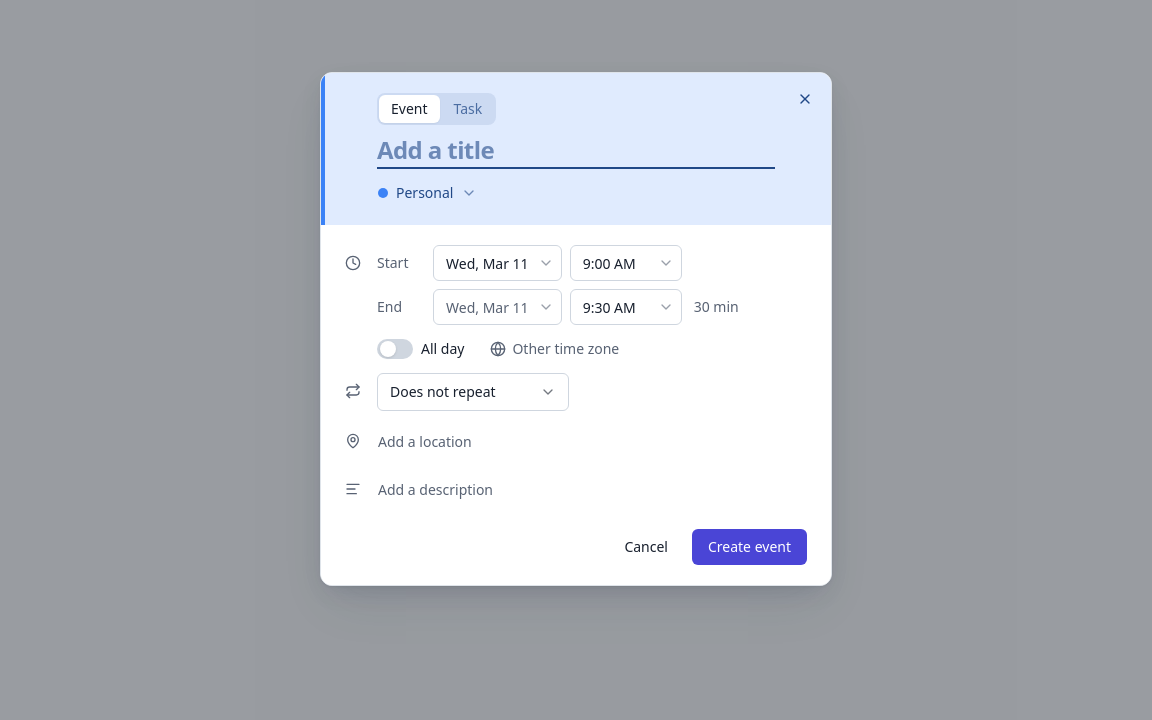
EditorDialog › makes the task the event it was again
Click the radio button "Task" at (468, 109), box [442,95,494,123]
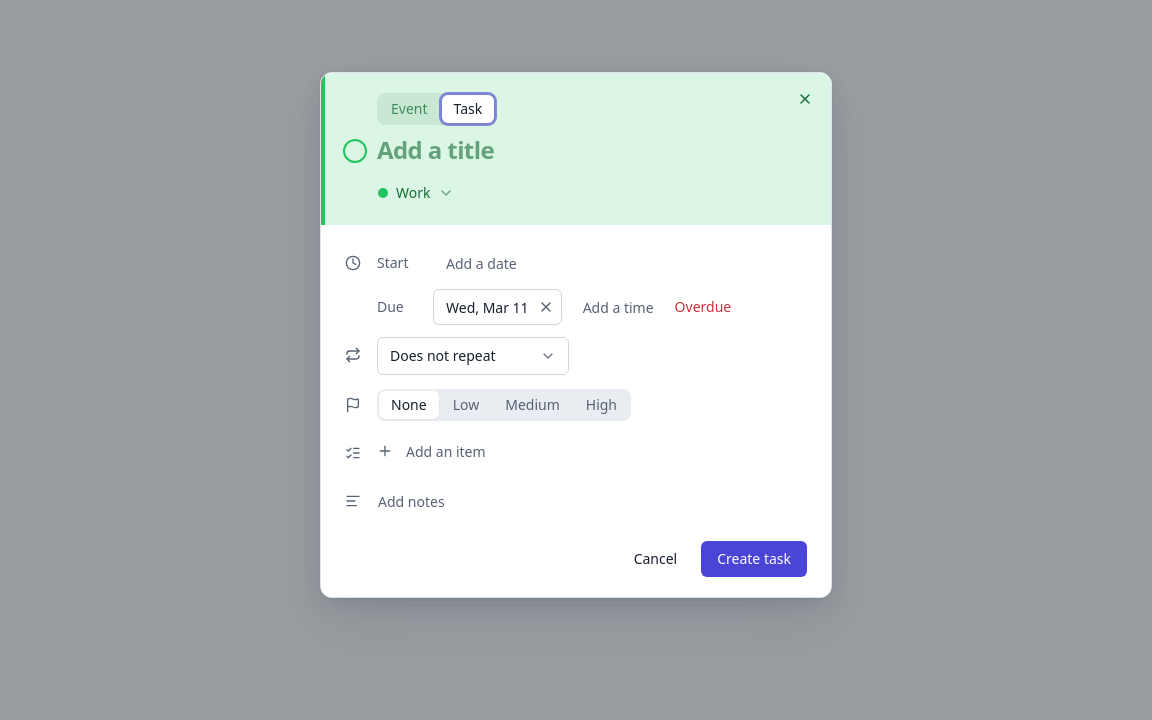
Click the radio button "Event" at (409, 109), box [379,95,440,123]
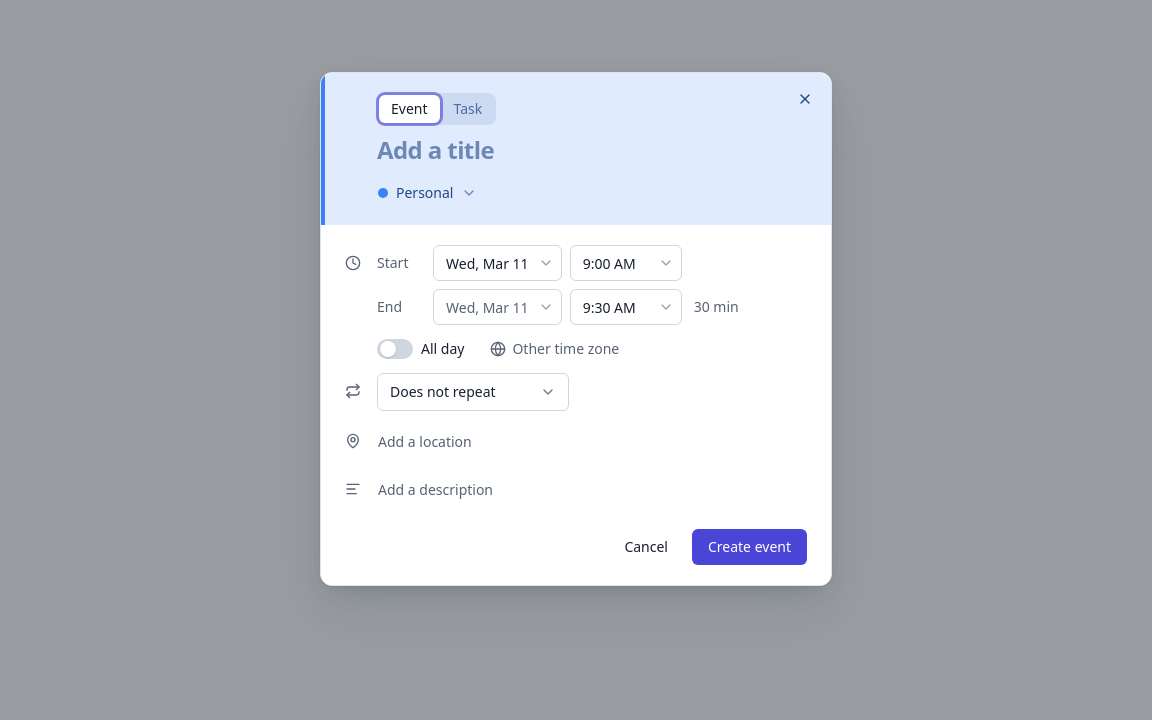
Result: the dropdown labelled "Start" holds "^Wed, Mar 11" at [433,245,562,281]
Result: the dropdown named "Start time" holds "9:00 AM" at [570,245,682,281]
Result: the dropdown named "End time" holds "9:30 AM" at [570,289,682,325]
